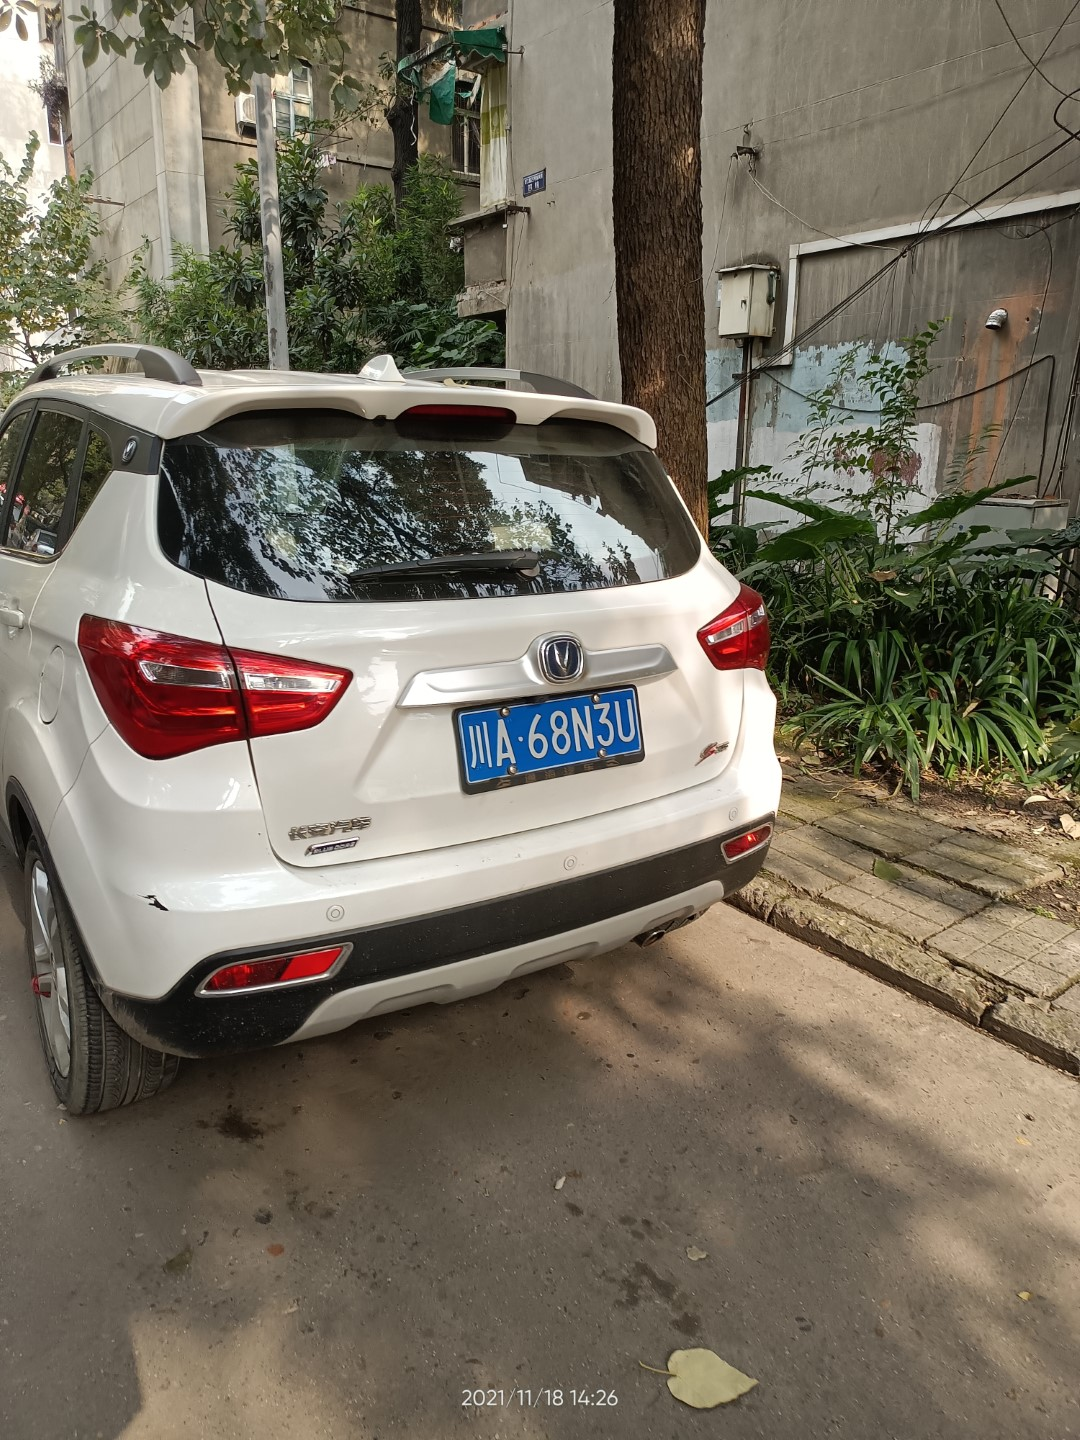plate: (457, 686, 642, 781)
